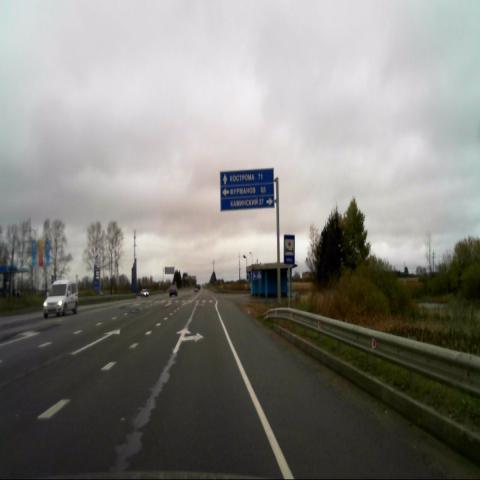7_2: (283, 234, 295, 265)
